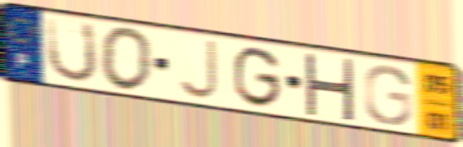G: (231, 45, 283, 111), (362, 64, 414, 128)
H: (301, 50, 356, 124)
J: (175, 37, 220, 101)
O: (97, 24, 155, 95)
U: (45, 15, 100, 84)
